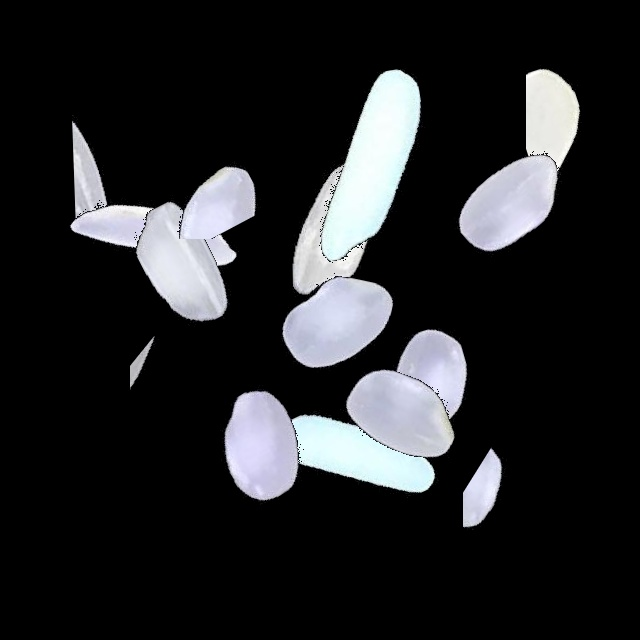Broken: (69, 108, 319, 239), (7, 113, 257, 231), (463, 384, 580, 634), (526, 15, 629, 265), (130, 256, 226, 506)
Full: (221, 333, 471, 583), (135, 318, 385, 568), (28, 113, 278, 363), (301, 257, 551, 507), (208, 105, 458, 355), (212, 197, 462, 447), (387, 76, 637, 326), (279, 287, 529, 537), (243, 38, 493, 288), (54, 143, 304, 393)
